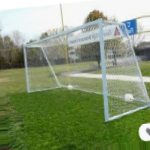goals: (21, 17, 150, 120)
